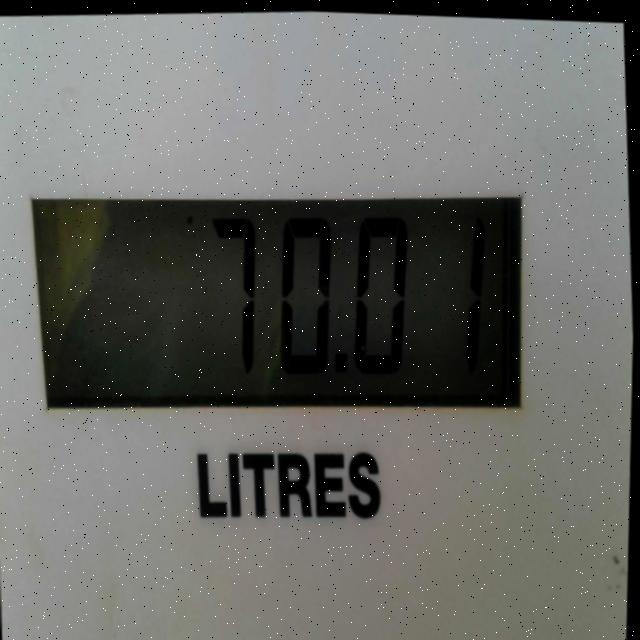.: (336, 344, 348, 371)
0: (346, 207, 417, 377), (273, 209, 336, 394)
1: (455, 204, 503, 390)
7: (213, 211, 264, 367)
